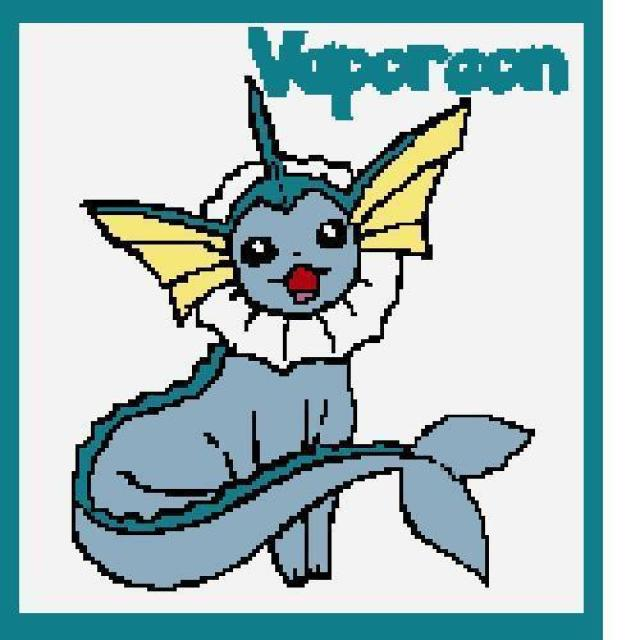Vaporeon: (35, 84, 557, 626)
